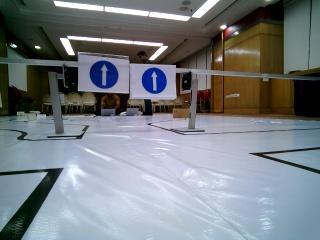straight: (79, 54, 130, 92), (130, 62, 176, 100)
